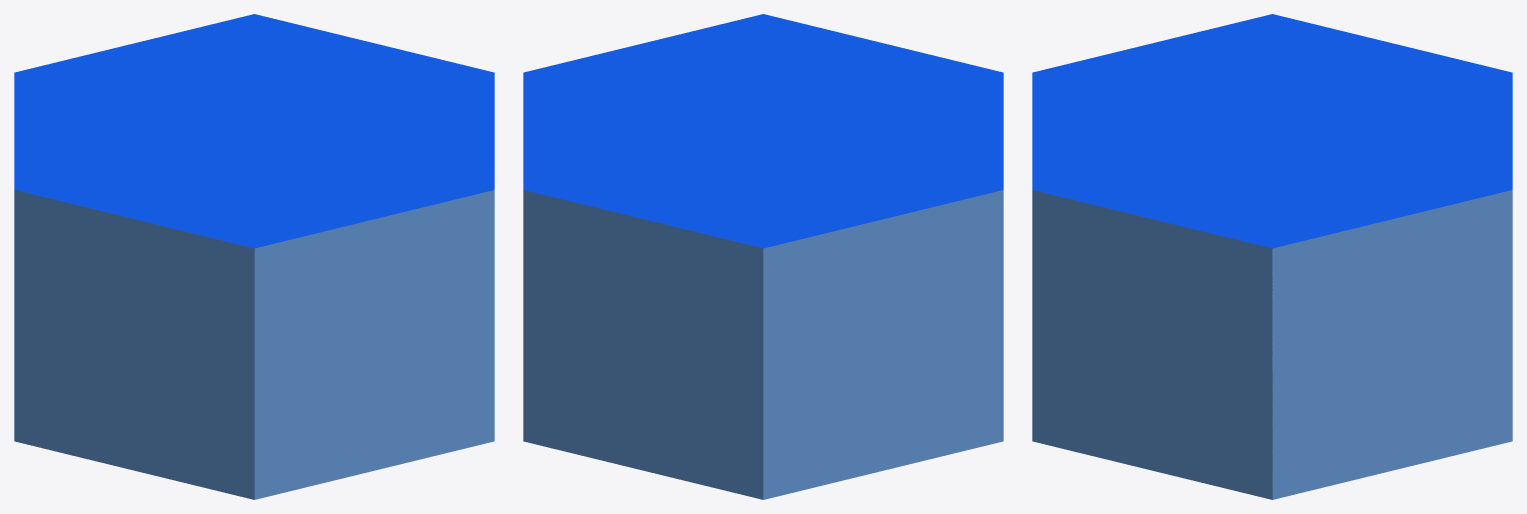
The model's file is Item1.dae.
The picture shows the model from 3 angles, left to right: view 1: azimuth 30°, elevation 25°; view 2: azimuth 150°, elevation 25°; view 3: azimuth 270°, elevation 25°; orthographic projection.
Visible parts, largest first — view 1: SketchUp (×2); view 2: SketchUp (×2); view 3: SketchUp (×2).
Part boxes in pixels (left/top/right/bottom): SketchUp (×2): left=14, top=14, right=494, bottom=499; SketchUp (×2): left=523, top=14, right=1003, bottom=499; SketchUp (×2): left=1032, top=14, right=1512, bottom=499.
Size of the model in its own units: 0.25 by 0.2165 by 0.125.
